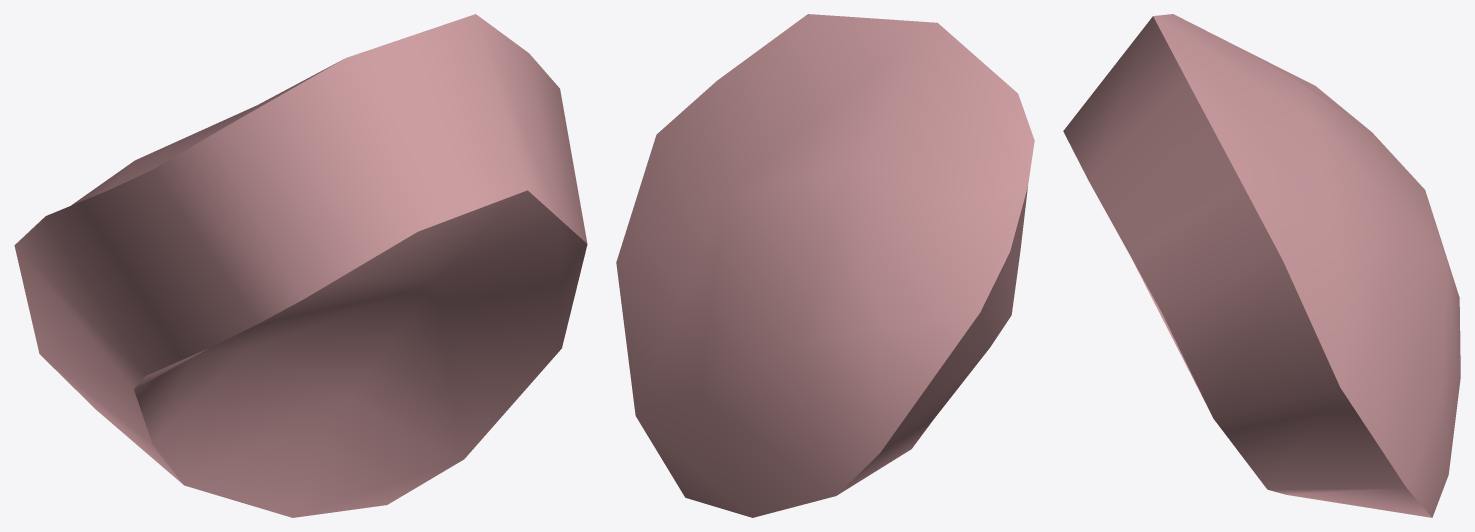
The picture shows the model from 3 angles, left to right: view 1: azimuth 30°, elevation 25°; view 2: azimuth 150°, elevation 25°; view 3: azimuth 270°, elevation 25°; orthographic projection. The views are drawn at different scales.
Visible parts, largest first — view 1: ZA_369ff38ec4734b34; view 2: ZA_369ff38ec4734b34; view 3: ZA_369ff38ec4734b34.
Boxes of the visible parts, left/top/right/bottom form: ZA_369ff38ec4734b34: left=14, top=14, right=587, bottom=517; ZA_369ff38ec4734b34: left=616, top=14, right=1034, bottom=517; ZA_369ff38ec4734b34: left=1063, top=14, right=1460, bottom=517.
Bounding box in the file's own units: 0.0094 × 0.00962 × 0.00791.
